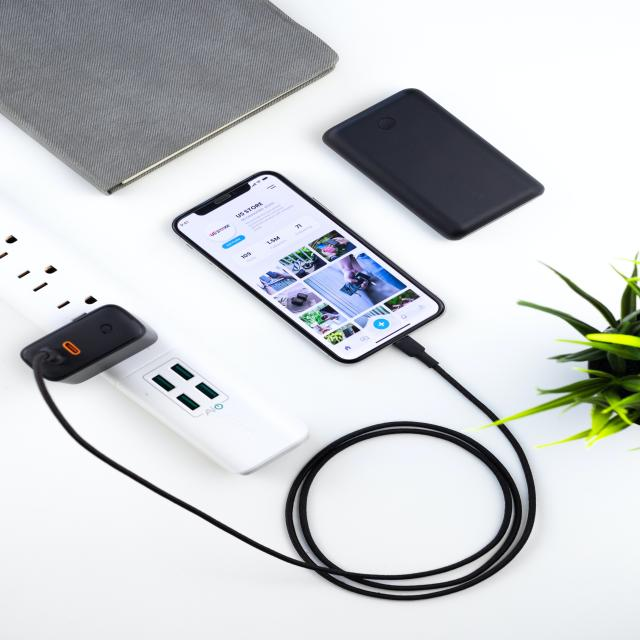battery charger: (236, 335, 524, 608), (26, 291, 164, 441)
phone: (164, 186, 488, 364)
